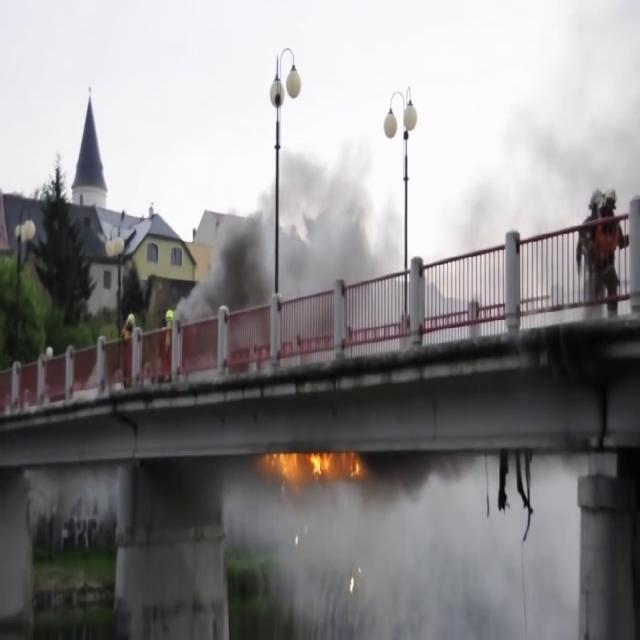Fire: (258, 434, 364, 484)
Smoke: (180, 78, 398, 352), (458, 42, 630, 292)
